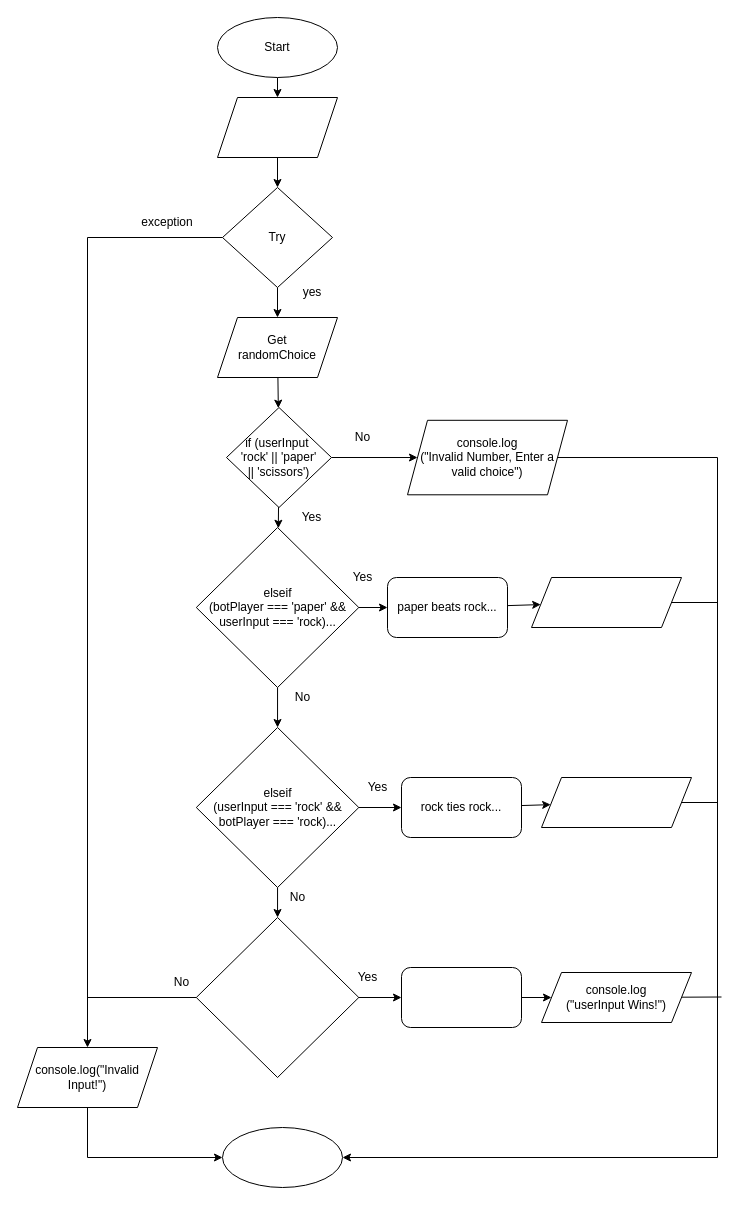
Some shapes in this 743 by 1205 pixel diagram are drawn without their labels. The centre of each missing label's shape, as x and y in pixels:
console.log ("botPlayer Wins!"): (x=606, y=602)
console.log ("It was a tie!"): (x=616, y=802)
elseif (userInput === 'scissors' && botPlayer === 'paper)...: (x=277, y=997)
Get userInput: (x=277, y=127)
scissors beats paper...: (x=461, y=997)
Stop: (x=282, y=1157)
